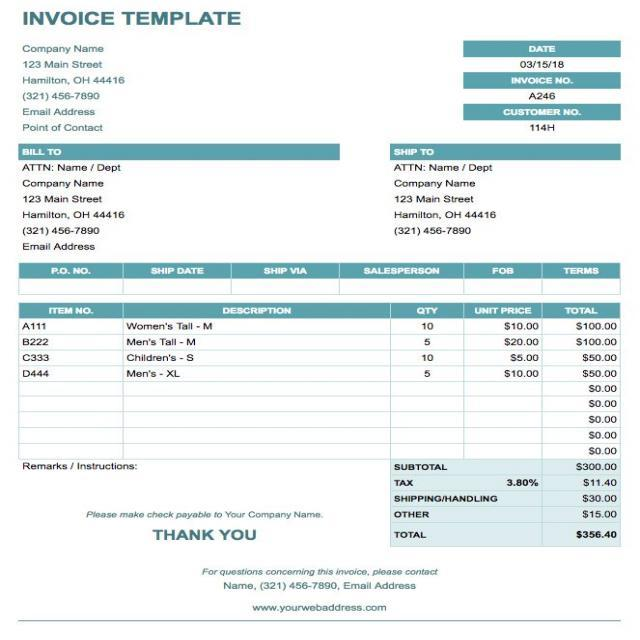customer_address: (18, 193, 135, 222)
customer_name: (18, 162, 125, 191)
invoice_date: (511, 60, 580, 70)
invoice_number: (508, 89, 584, 103)
invoice_subtotal: (574, 461, 618, 473)
invoice_total: (553, 529, 620, 547)
item_description: (124, 320, 314, 383)
item_quantity: (409, 320, 444, 381)
item_total_price: (576, 320, 619, 380)
item_unit_price: (496, 320, 542, 381)
supplier_address: (18, 59, 136, 88)
supplier_name: (18, 40, 113, 56)
tax_amount: (578, 478, 618, 488)
tax_rate: (498, 474, 541, 490)
